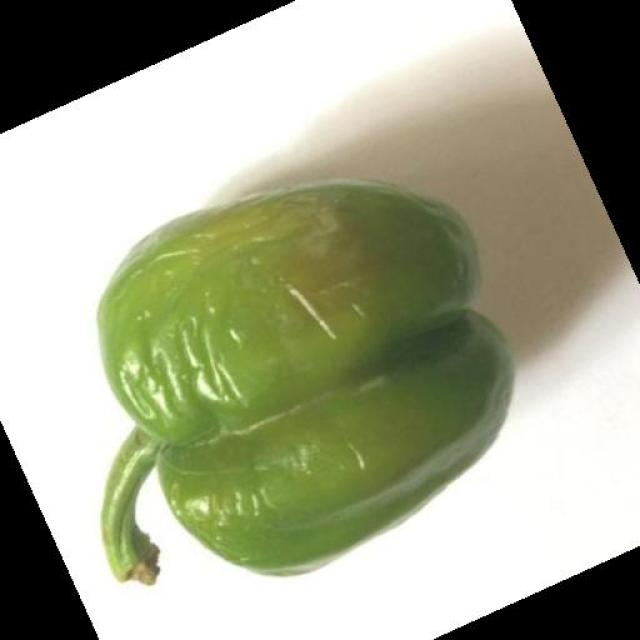Stale_Capsicum: (84, 166, 522, 544)
